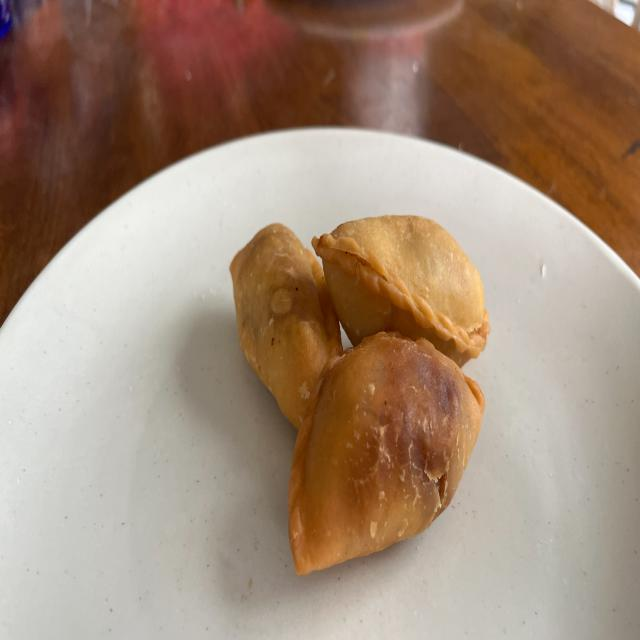karipap: (289, 331, 485, 576), (311, 216, 490, 367), (230, 224, 342, 429)
